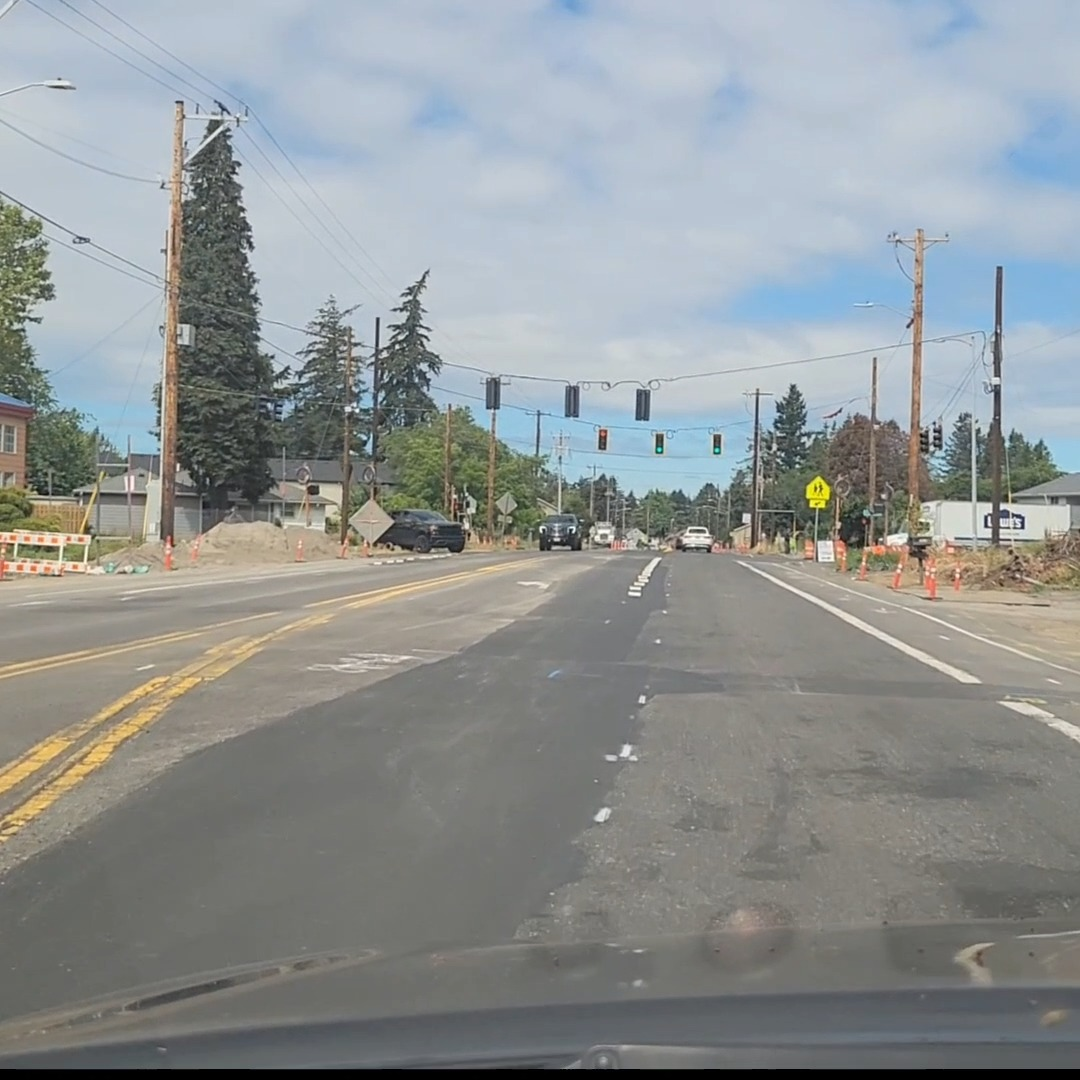car: (376, 509, 464, 553), (536, 513, 585, 550), (674, 525, 715, 552)
crosswalk-sign: (805, 475, 829, 509)
delineator: (891, 553, 904, 589), (924, 564, 937, 598), (857, 546, 870, 579), (163, 536, 174, 570), (189, 536, 200, 565), (952, 564, 962, 591), (337, 538, 349, 558), (294, 538, 304, 561), (361, 538, 371, 557), (165, 534, 173, 550)
